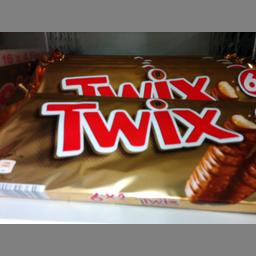chocolate: (0, 90, 255, 214)
